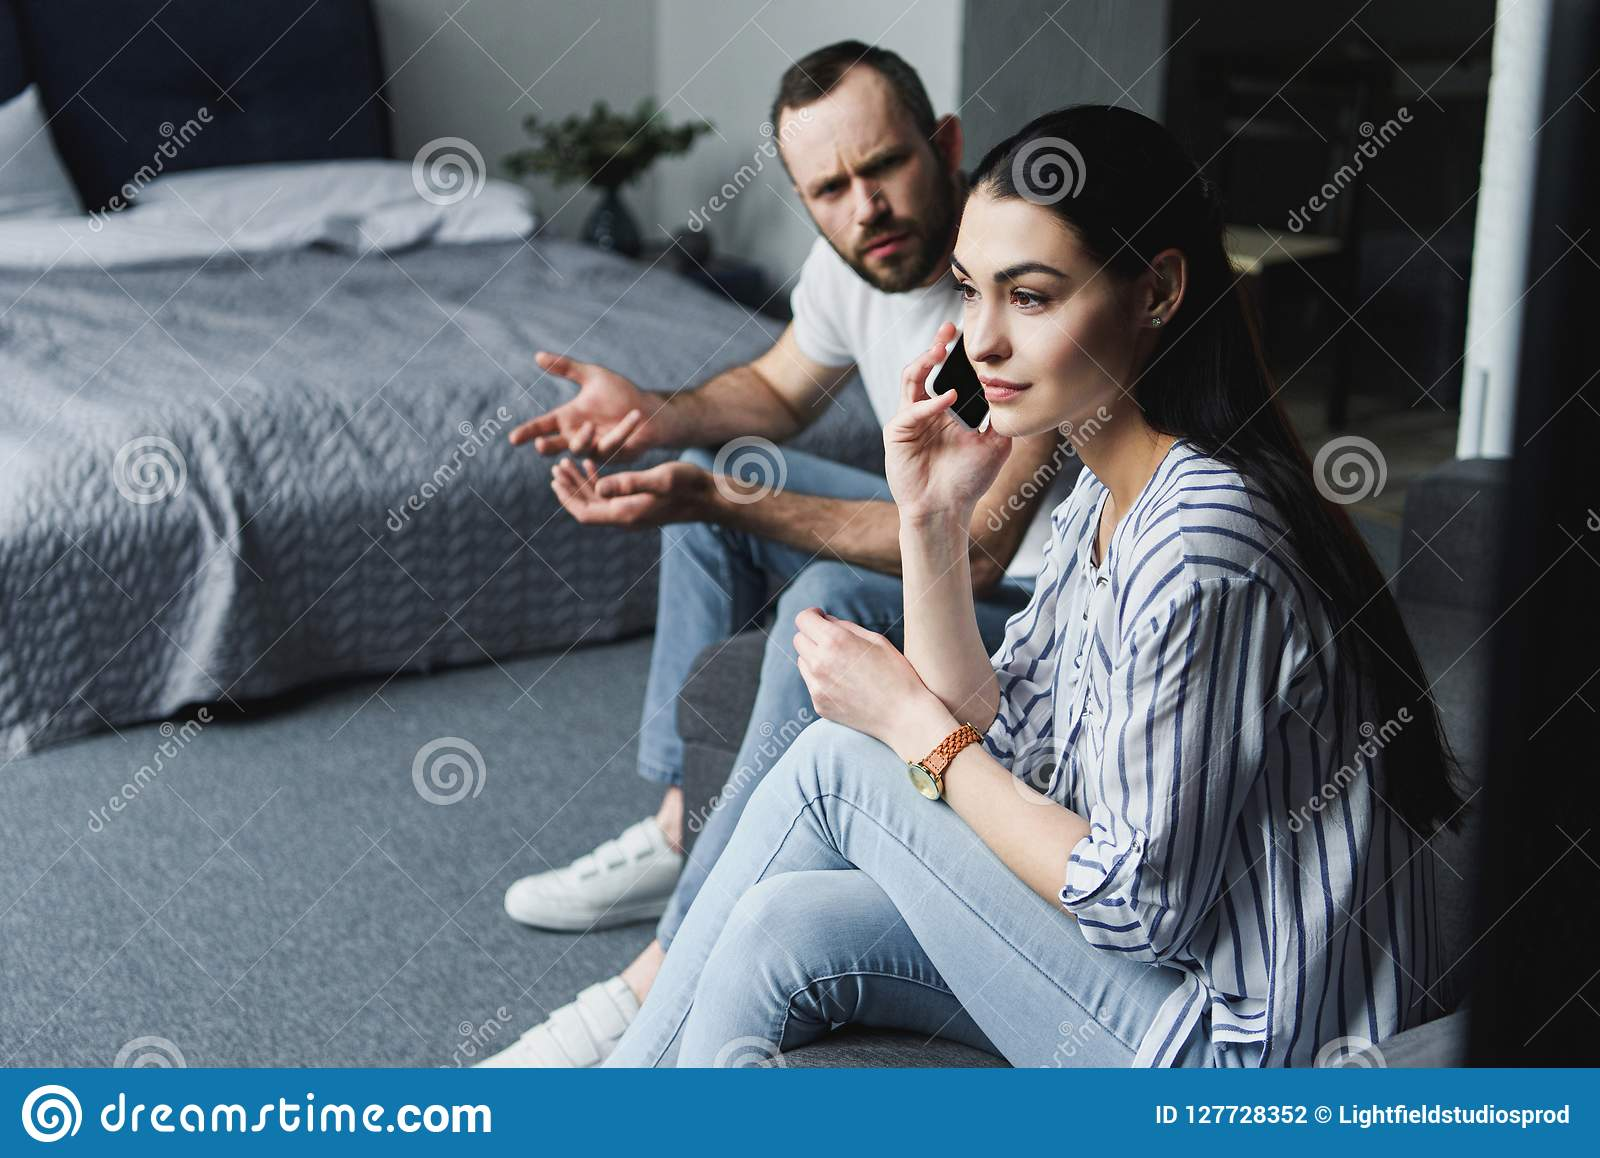phone: (925, 321, 990, 439)
talk: (875, 247, 1081, 545)
